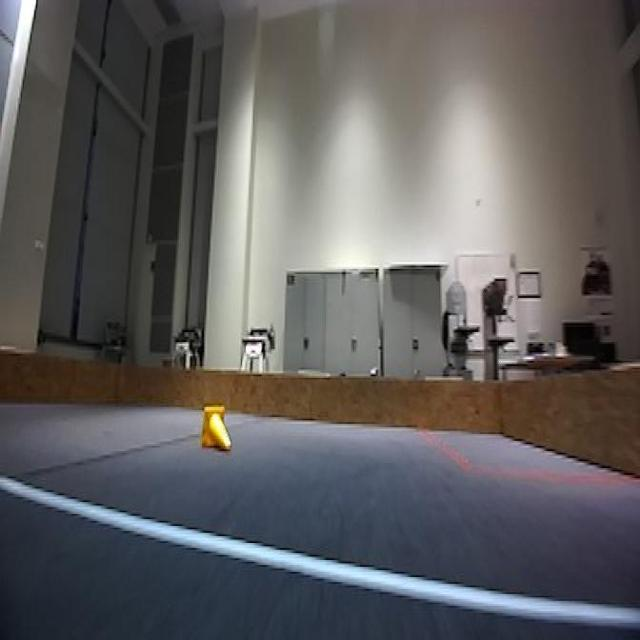frc_cone: (197, 402, 232, 458)
